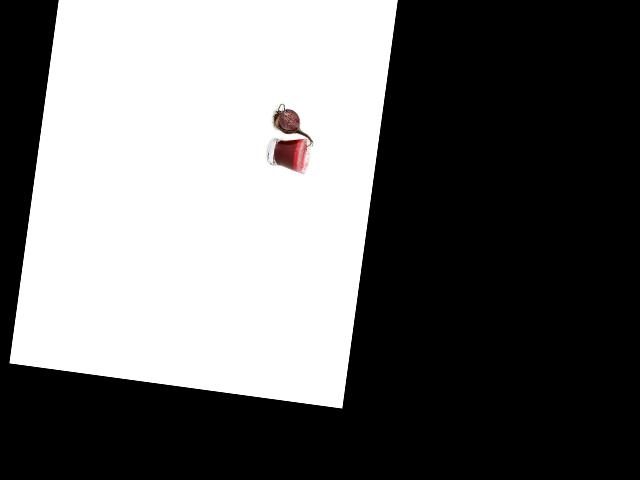beet: (269, 103, 317, 152)
